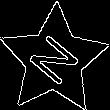N_SE: (23, 28, 86, 91)
